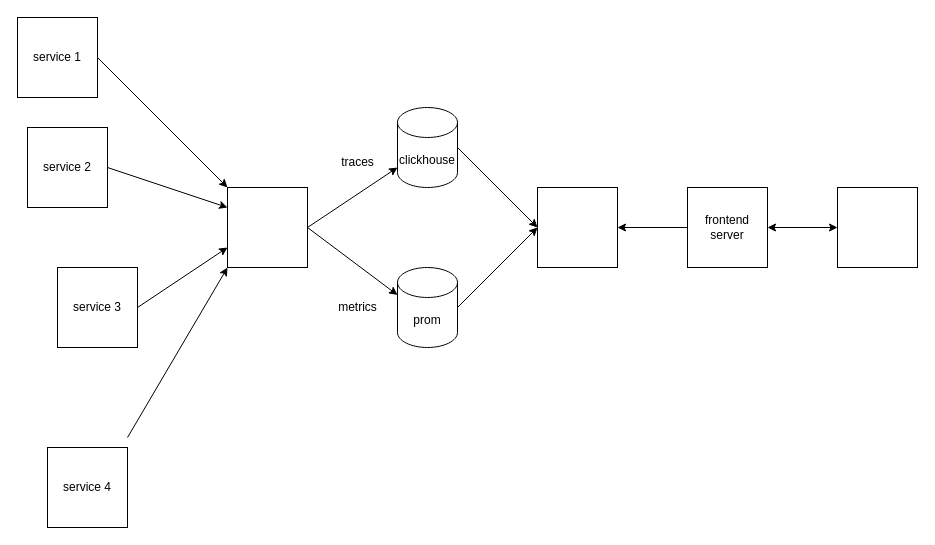
Image size: 935x545. Some labels were removed from this diagram. The shapes that lost their labels are listed below. From the top down, each one's centre as x and y in pixels, then its label:
point 267,227: custom otel collector
point 577,227: backend query service
point 877,227: browser react app
